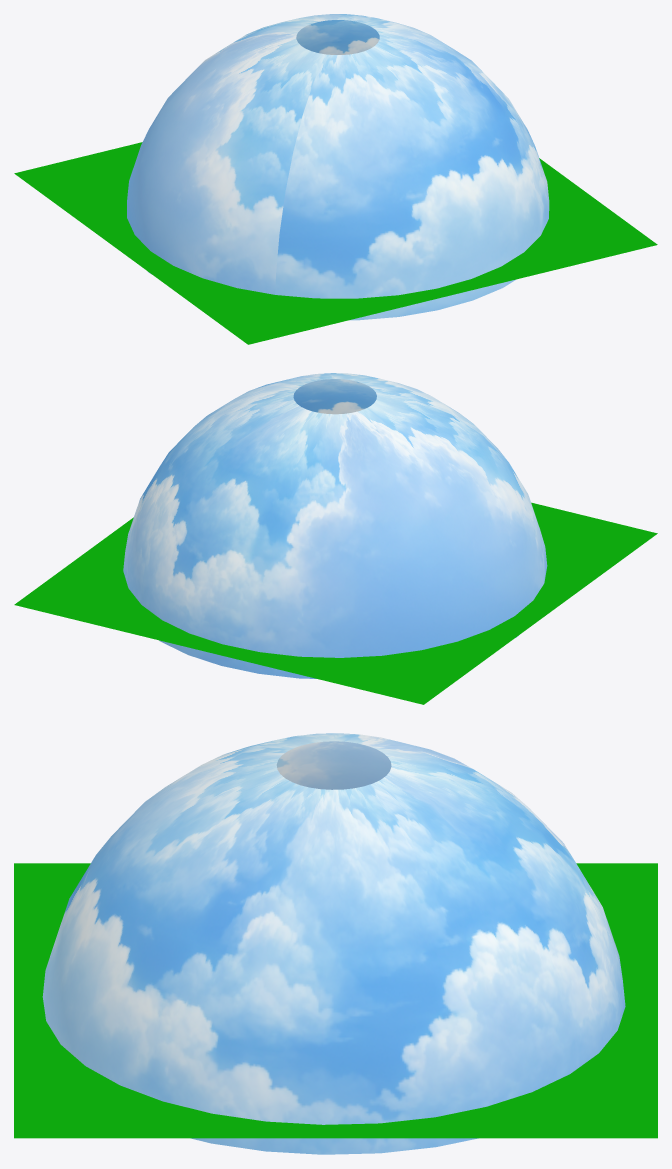
The model's file is sky.glb.
3 renders of one model, top to bottom at view 1: azimuth 30°, elevation 25°; view 2: azimuth 150°, elevation 25°; view 3: azimuth 270°, elevation 25°, orthographic. The views are drawn at different scales.
Parts seen in each view (by area): view 1: Sphere_8, Plane.001_1; view 2: Sphere_8, Plane.001_1; view 3: Sphere_8, Plane.001_1.
Boxes of the visible parts, x1,y1,x2,y2 form: Sphere_8: (127,14,549,320); Plane.001_1: (14,142,657,344); Sphere_8: (123,373,547,678); Plane.001_1: (14,502,657,704); Sphere_8: (42,733,625,1154); Plane.001_1: (14,863,657,1138).
Size of the model in its own units: 70.92 by 31.86 by 70.21.
3 materials, 3 textured.
